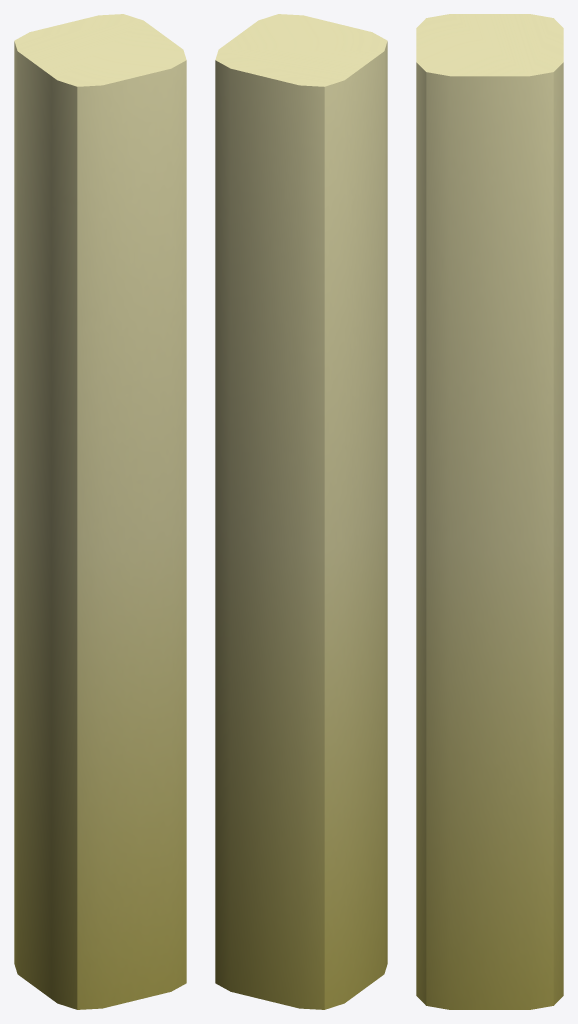
The model's file is Mod_Pillar_04.fbx.
3 views of the same model, side by side, from view 1: azimuth 30°, elevation 25°; view 2: azimuth 150°, elevation 25°; view 3: azimuth 270°, elevation 25° (orthographic).
Visible parts, largest first — view 1: Mod_Pillar_04; view 2: Mod_Pillar_04; view 3: Mod_Pillar_04.
Part boxes in pixels (bbox=[...]): Mod_Pillar_04: bbox=[14, 14, 186, 1009]; Mod_Pillar_04: bbox=[215, 14, 387, 1009]; Mod_Pillar_04: bbox=[416, 14, 563, 1009].
Bounding box in the file's own units: 30 × 210 × 30.
